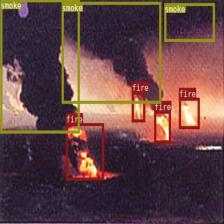fire: (65, 122, 104, 180), (179, 97, 199, 128), (154, 110, 170, 143), (131, 91, 145, 121)
smoke: (0, 0, 79, 133), (62, 1, 160, 103), (164, 3, 214, 42)
